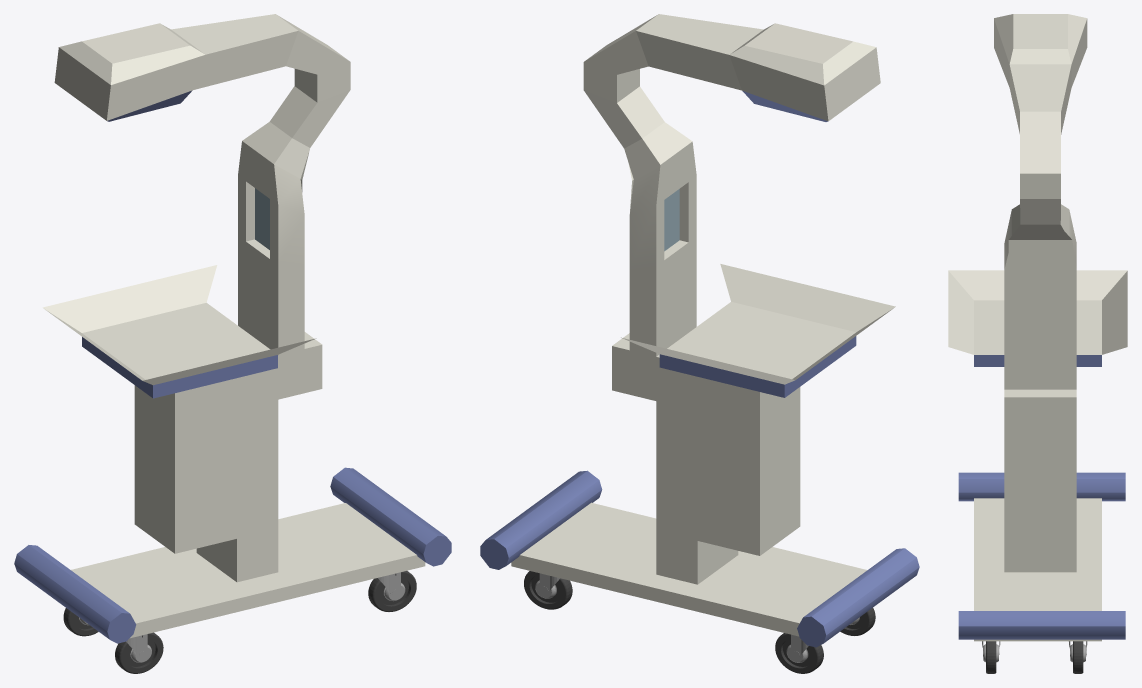
The model's file is cuna_calor radiante.fbx.
The picture shows the model from 3 angles, left to right: view 1: azimuth 30°, elevation 25°; view 2: azimuth 150°, elevation 25°; view 3: azimuth 270°, elevation 25°; orthographic projection. The views are drawn at different scales.
Visible parts, largest first — view 1: cuna_calor_radiante; view 2: cuna_calor_radiante; view 3: cuna_calor_radiante.
Part boxes in pixels (<box>): cuna_calor_radiante: <box>14,14,451,673</box>; cuna_calor_radiante: <box>480,14,919,673</box>; cuna_calor_radiante: <box>948,14,1127,673</box>.
Bounding box in the file's own units: 1.3 × 2.17 × 0.6527.
